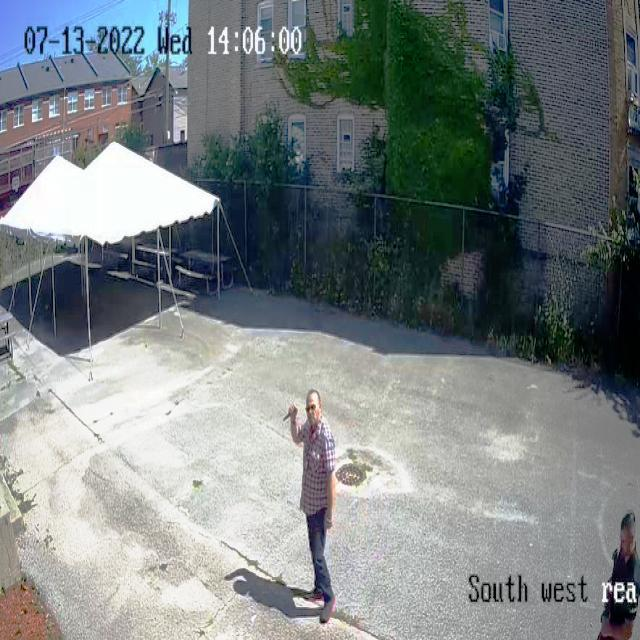Knife: (278, 398, 304, 428)
